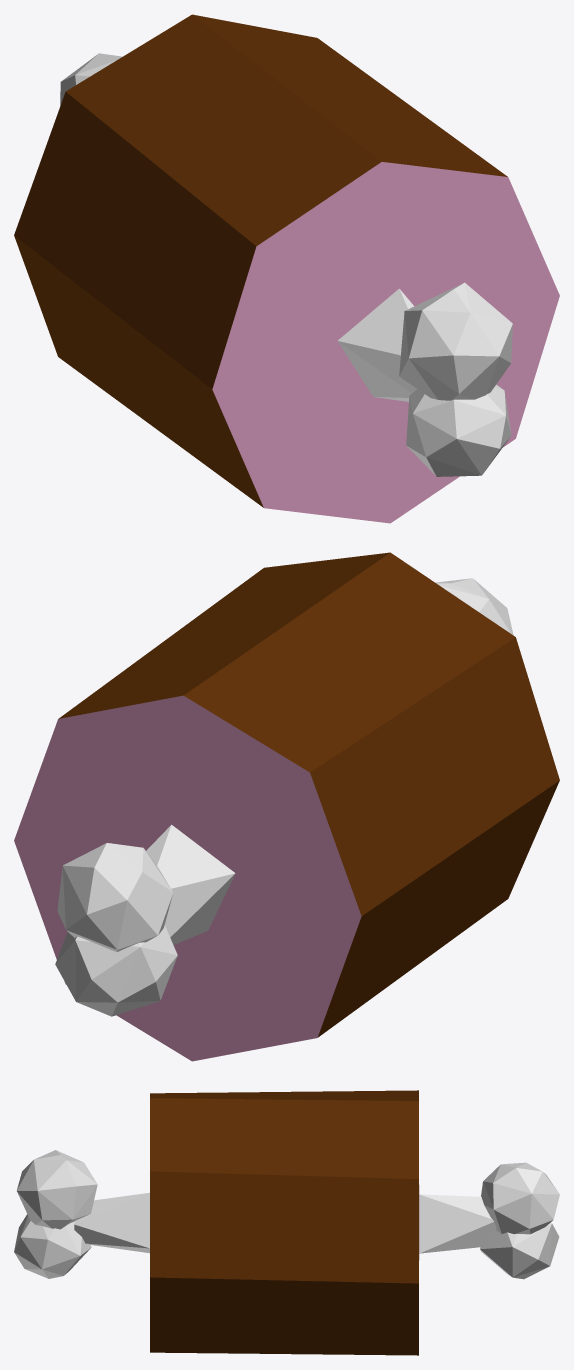
File: meat.fbx
The picture shows the model from 3 angles, top to bottom: view 1: azimuth 30°, elevation 25°; view 2: azimuth 150°, elevation 25°; view 3: azimuth 270°, elevation 25°; orthographic projection. The views are drawn at different scales.
Parts seen in each view (by area): view 1: Cylinder; view 2: Cylinder; view 3: Cylinder.
Boxes of the visible parts, x1,y1,x2,y2 form: Cylinder: [14, 14, 559, 523]; Cylinder: [14, 552, 559, 1061]; Cylinder: [14, 1090, 559, 1355].
Bounding box in the file's own units: 398 × 398 × 799.
